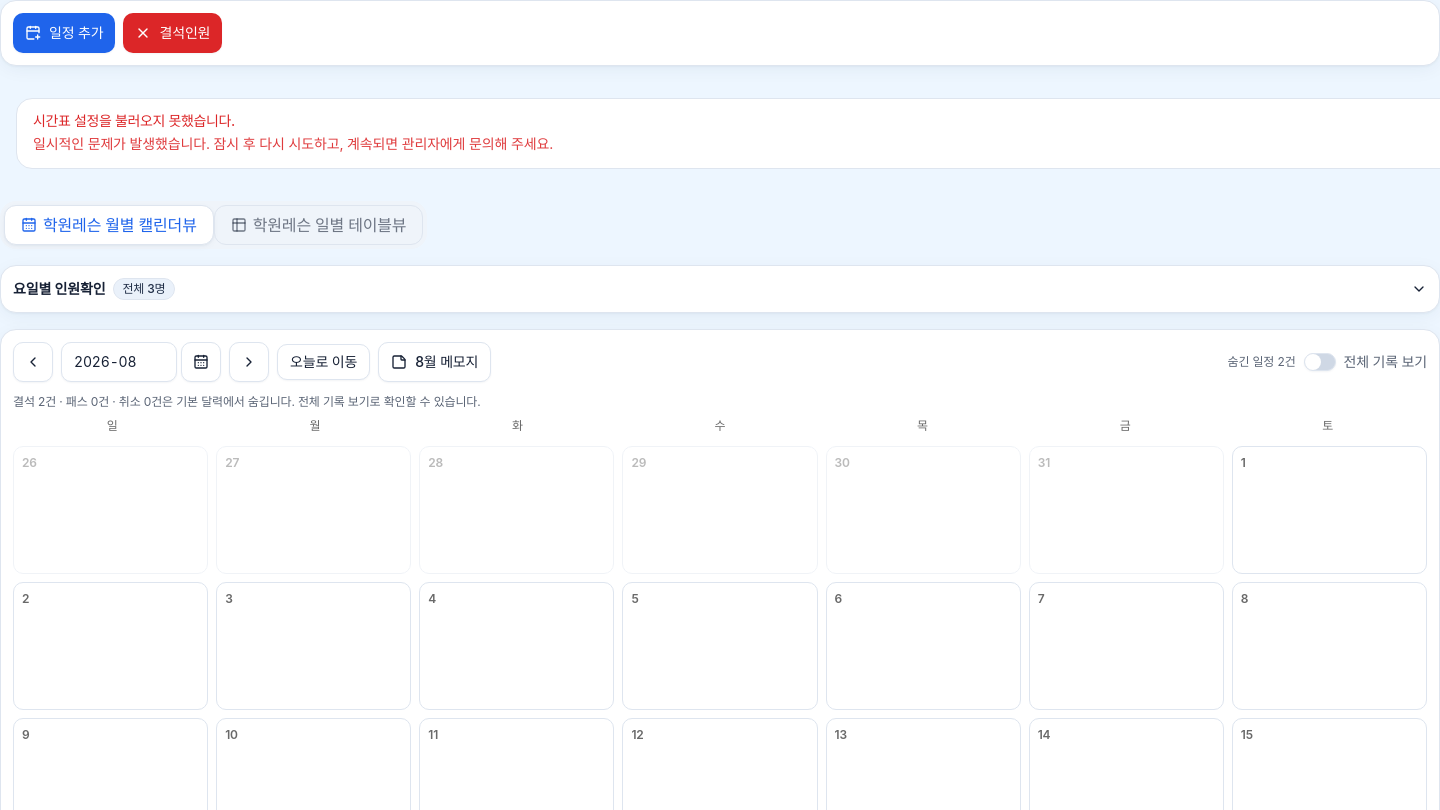
학원 레슨표 서버 연결 › 다음 달 자료 준비가 실패하면 추천을 보류하고 재시도한다
Step 1. Click the button "결석인원" → (173,33), box [124,13,222,53]
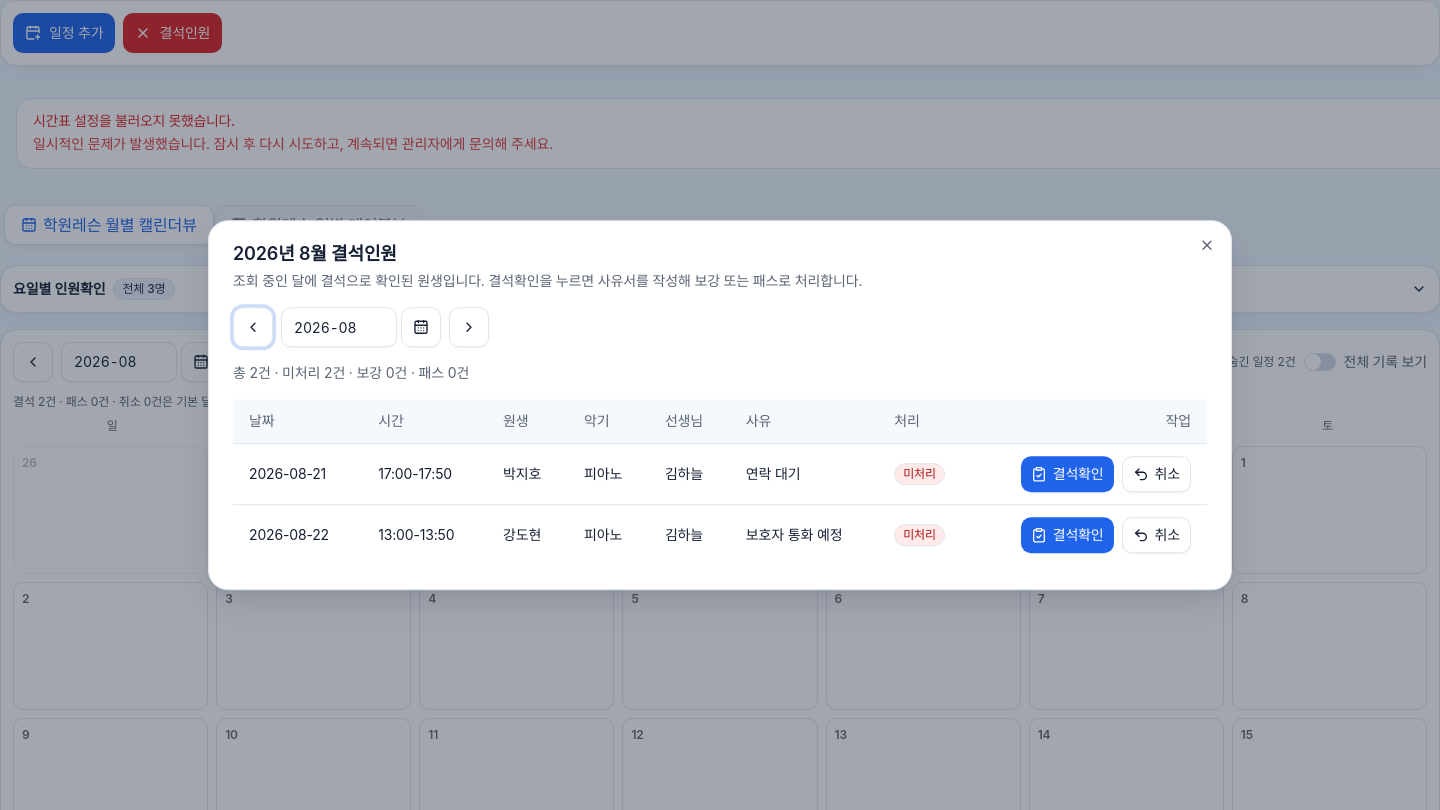
Step 2. Click the button with aria-label "박지호 결석확인" → (1067,474), box [1021,456,1114,492]
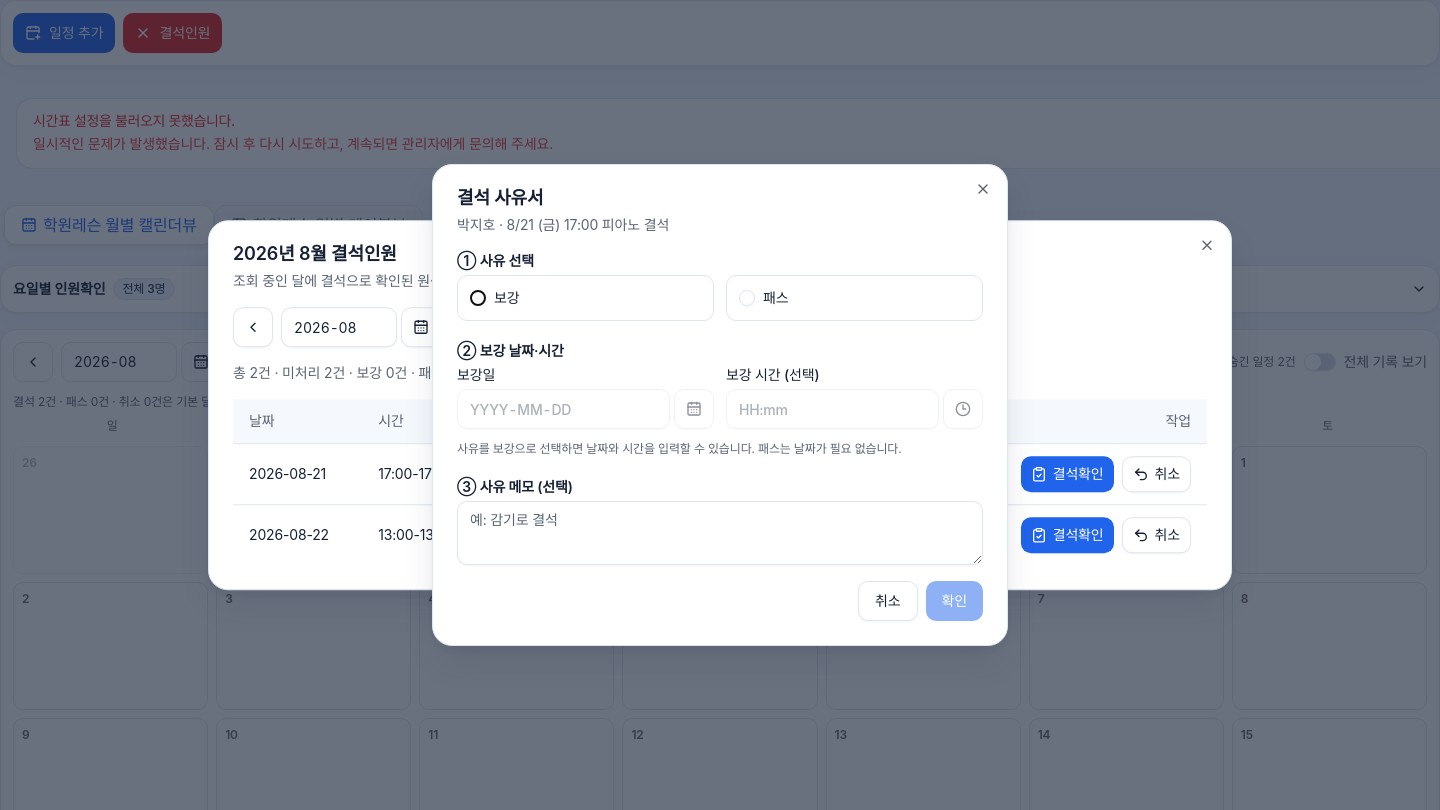
Step 3. Click the 1st radio button named "보강" → (478,298), box [470,290,486,306]
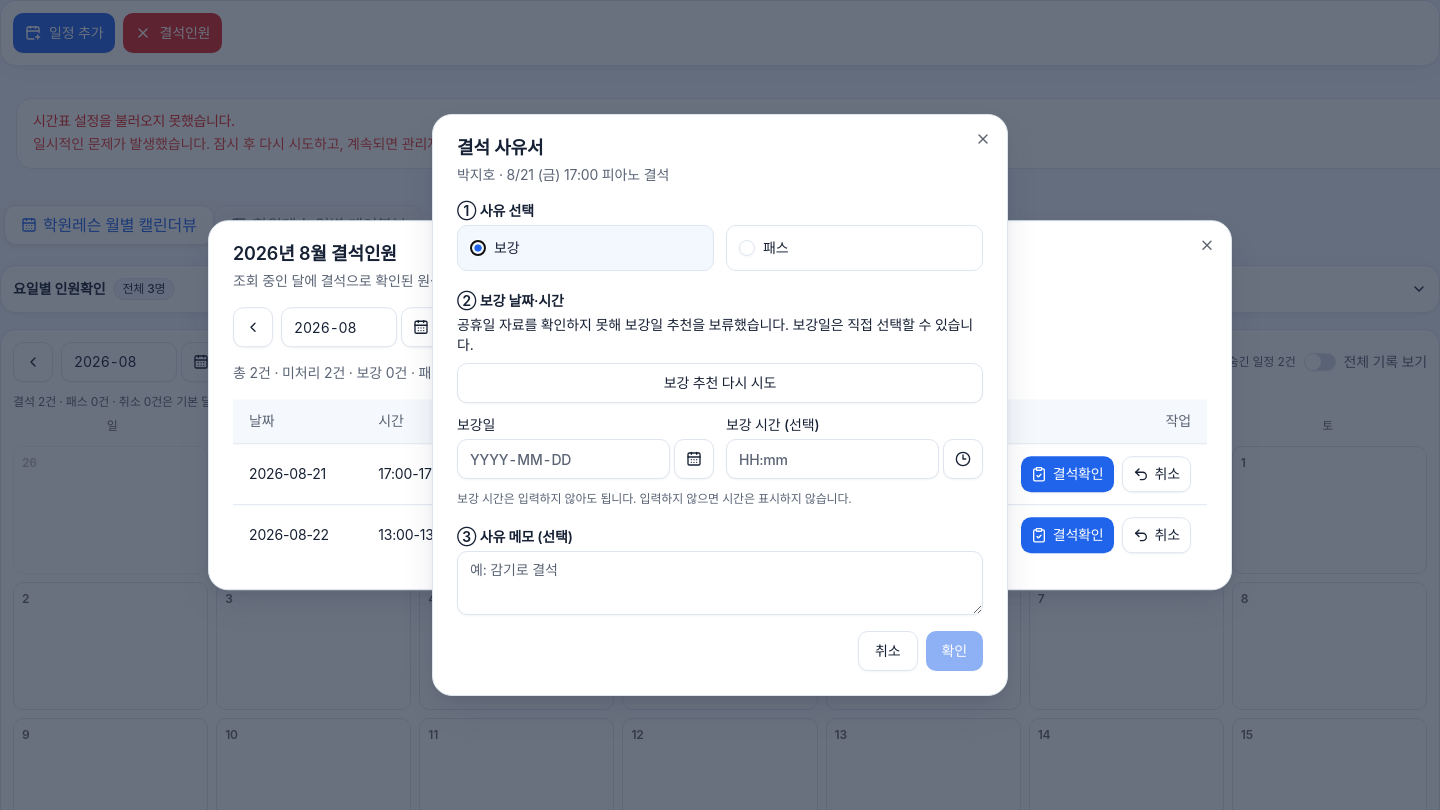
Expected: the element "추천 보강일" is not shown
Expected: the text "공휴일 자료를 확인하지 못해 보강일 추천을 보류했습니다. 보강일은 직접 선택할 수 있습니다." is shown, [457,315,983,355]
Step 4. Click the button "보강 추천 다시 시도" → (720,383), box [457,363,983,403]
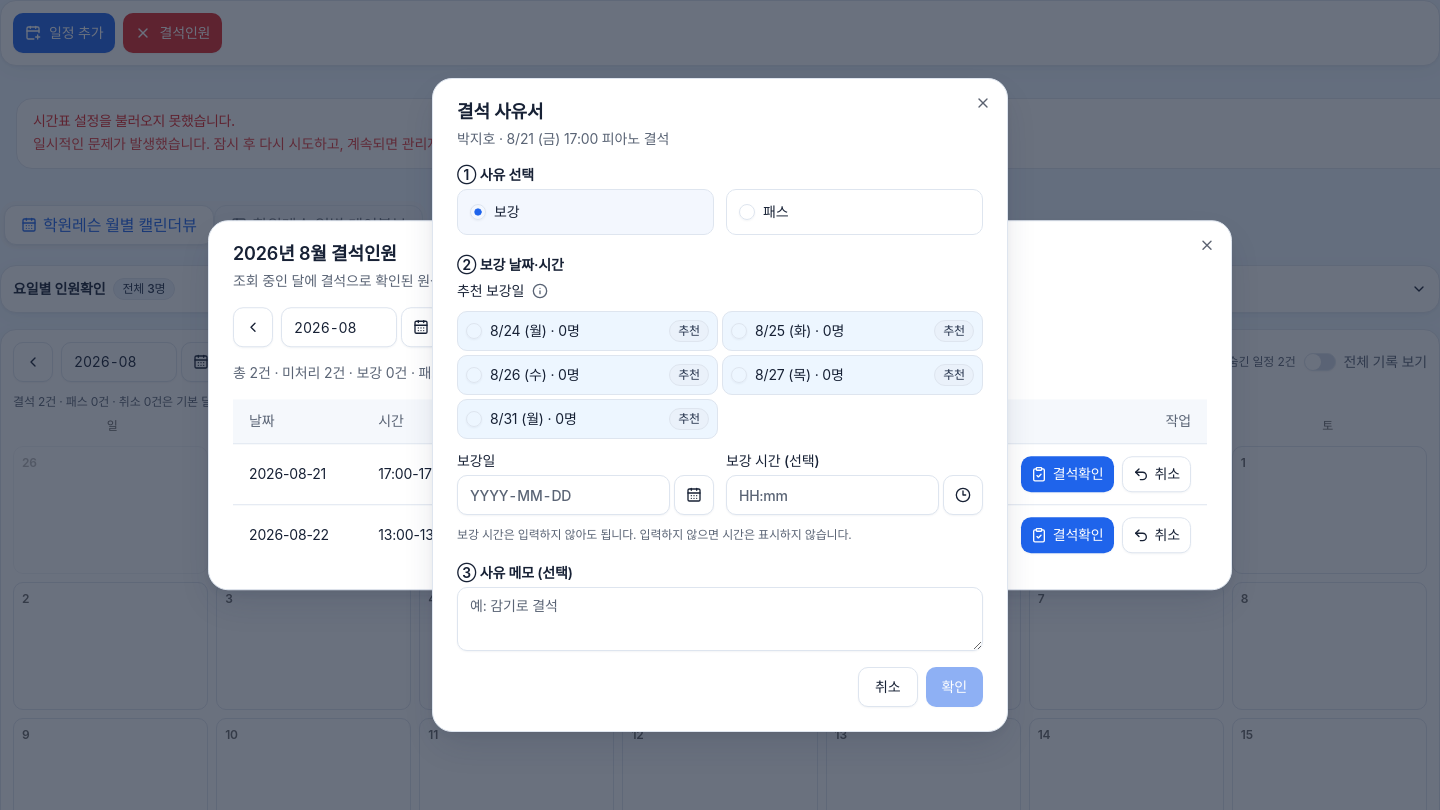
Expected: the element named "추천 보강일" is shown, [457,311,983,439]
